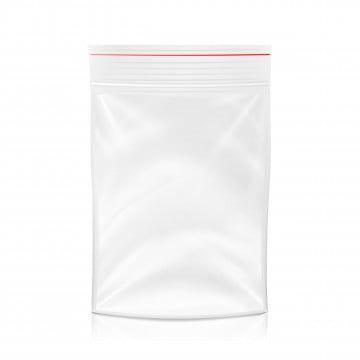LDPE: (92, 42, 268, 322)
